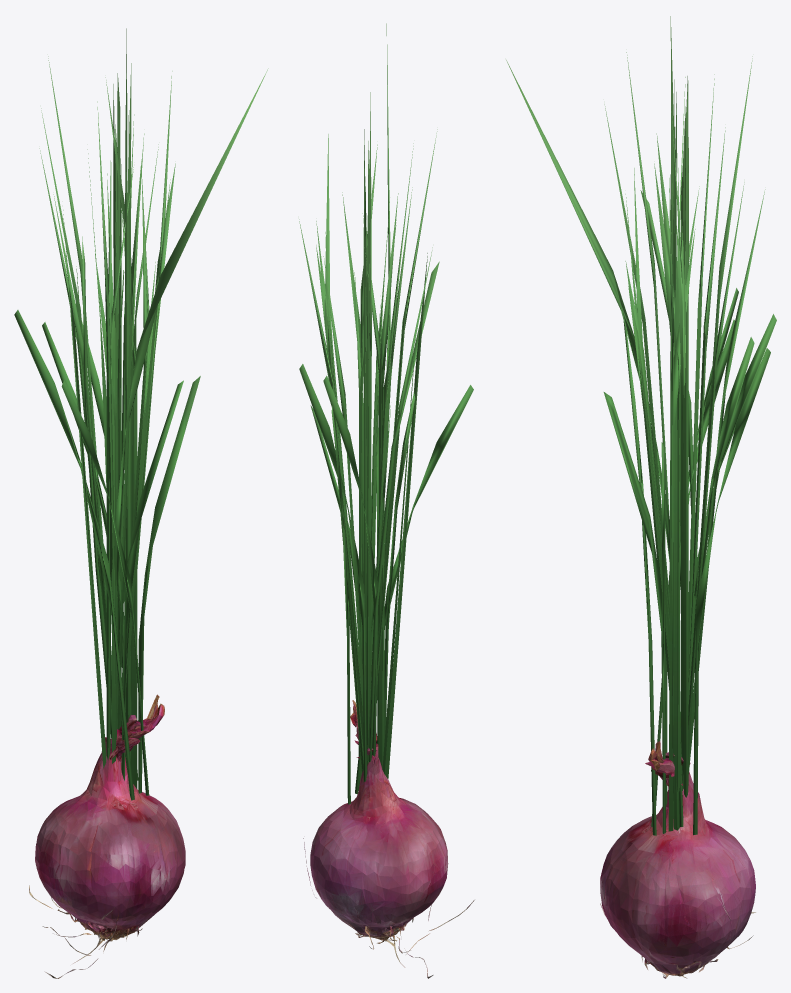
The model's file is onion_plant.glb.
3 renders of one model, left to right at view 1: azimuth 30°, elevation 25°; view 2: azimuth 150°, elevation 25°; view 3: azimuth 270°, elevation 25°, orthographic. The views are drawn at different scales.
Parts seen in each view (by area): view 1: Object_12, Onion; view 2: Object_12, Onion; view 3: Object_12, Onion.
Part boxes in pixels (<box>): Object_12: <box>14,28,268,800</box>; Onion: <box>29,694,185,978</box>; Object_12: <box>299,23,473,804</box>; Onion: <box>303,700,474,978</box>; Object_12: <box>506,16,776,835</box>; Onion: <box>600,741,755,978</box>.
Size of the model in its own units: 0.4345 by 2.51 by 0.6229.
Materials: 2 (2 with a texture image).
